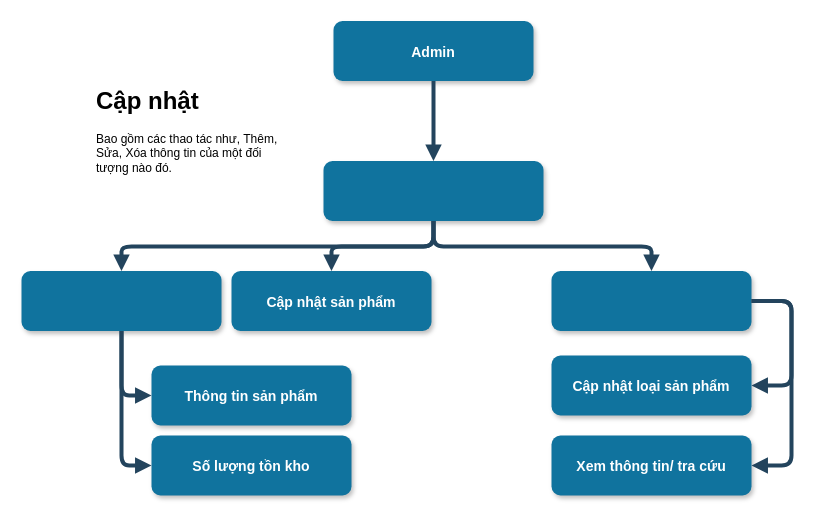
Some shapes in this 818 by 520 pixel diagram are drawn without their labels. The shapes that lost their labels are listed below. From the top down, each one's centre as x and y in pixels, then its label:
the point at 434,192: Quản lý sản phẩm
the point at 122,302: Xem thông tin sản phẩm
the point at 652,302: Quản lý loại sản phẩm
